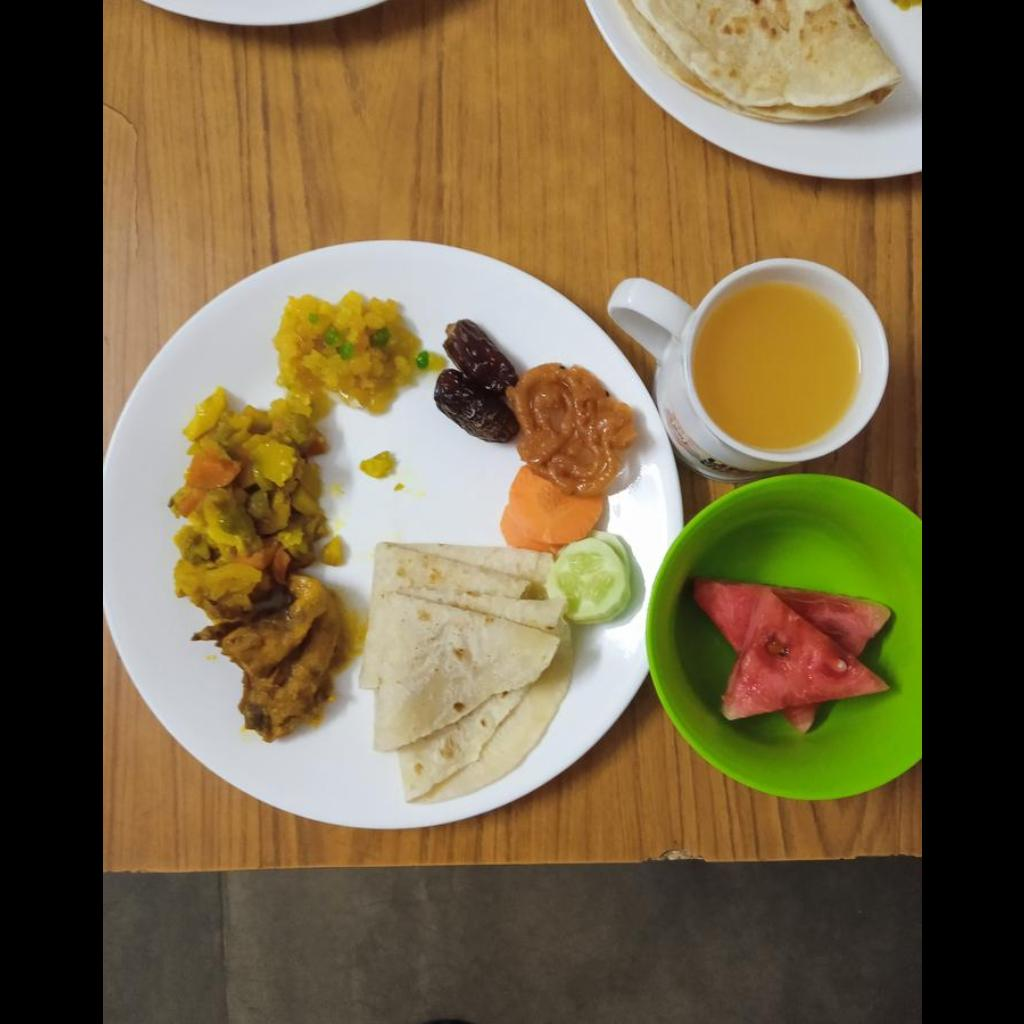burinda: (275, 294, 435, 410)
carrot: (499, 465, 604, 553)
chicken: (170, 553, 340, 741)
cucumber: (547, 532, 640, 624)
dates: (430, 318, 506, 442)
jilapi: (512, 369, 632, 501)
juice: (688, 282, 861, 448)
ruti: (361, 539, 575, 806), (617, 0, 896, 122)
vegetable: (173, 399, 334, 558)
watermelon: (691, 583, 900, 738)
